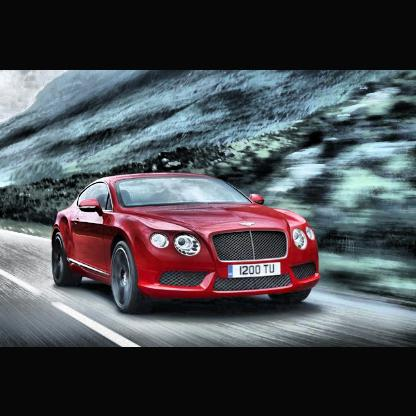Bentley Continental GT Coupe 2012: (52, 172, 321, 312)
